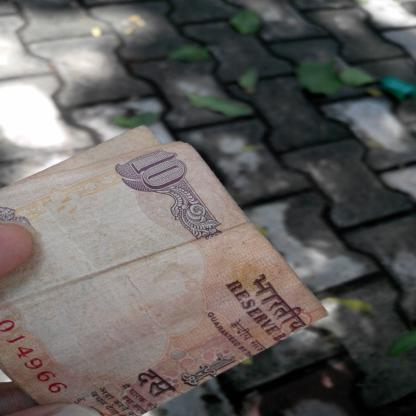Old10Front: (0, 125, 329, 415)
